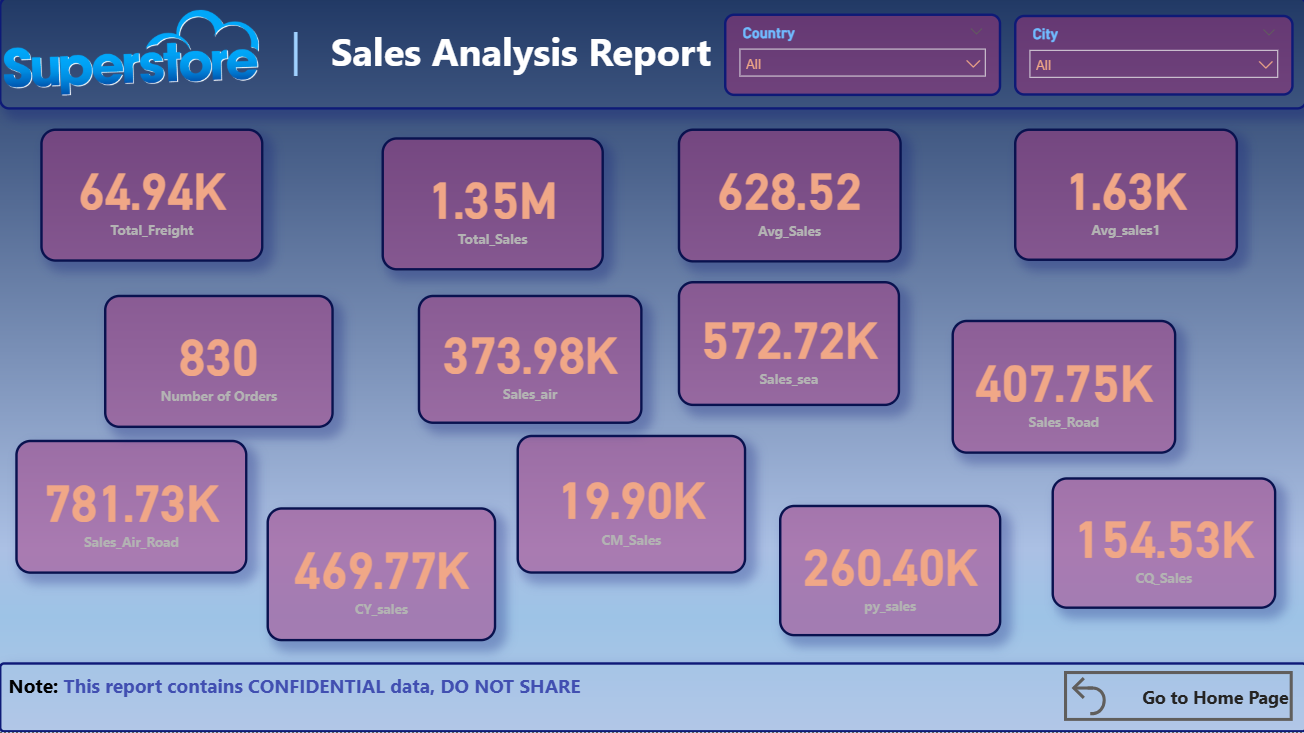

This screenshot's page, from the dashboard's own definition file:
{"tool":"powerbi","page":{"name":"EDA","canvas":[1280,720],"ordinal":5},"visuals":[{"type":"textbox","box":[0,0,1280.3,111.3],"z":0},{"type":"image","box":[0,0,259.2,111.3],"z":1000},{"type":"textbox","box":[272.7,17.1,436.6,94.2],"z":2000},{"type":"textbox","box":[0,651.8,1280.3,68.5],"z":3000},{"type":"slicer","fields":{"Values":["Customers.City"]},"box":[992.9,18.3,273.9,79.5],"z":4000},{"type":"actionButton","box":[1041.9,660.3,223.8,48.9],"z":5000},{"type":"slicer","fields":{"Values":["Customers.Country"]},"box":[709.2,17.1,271.5,80.7],"z":6000},{"type":"card","fields":{"Values":["Sum(Orders.Freight)"]},"box":[40,130,218.8,130],"z":7000},{"type":"card","fields":{"Values":["Sum(Order_Details.Total_Sales)"]},"box":[373.8,138.8,217.5,130],"z":8000},{"type":"card","fields":{"Values":["KPI_2.Avg_Sales"]},"box":[664,129.6,218.9,130.8],"z":9000},{"type":"card","fields":{"Values":["KPI.Avg_sales1"]},"box":[992.9,129.6,218.9,129.6],"z":10000},{"type":"card","fields":{"Values":["KPI.Sales_Air_Road"]},"box":[16.2,433.8,227.5,131.2],"z":11000},{"type":"card","fields":{"Values":["KPI_2.cy_1"]},"box":[261.2,500,225,131.2],"z":12000},{"type":"card","fields":{"Values":["KPI_2.CQ_Sales"]},"box":[1030,471.2,220,128.8],"z":13000},{"type":"card","fields":{"Values":["KPI.Road Shipping Sales"]},"box":[931.2,316.2,220,131.2],"z":14000},{"type":"card","fields":{"Values":["KPI.CM_Sales"]},"box":[506.2,428.8,225,136.2],"z":15000},{"type":"card","fields":{"Values":["KPI.Sea Shipping Sales"]},"box":[663.8,278.8,217.5,122.5],"z":16000},{"type":"card","fields":{"Values":["KPI_2.Number of Orders"]},"box":[102.5,292.5,225,130],"z":17000},{"type":"card","fields":{"Values":["KPI.Air Shipping Sales"]},"box":[410,292.5,220,126.2],"z":18000},{"type":"card","fields":{"Values":["KPI_2.py_sales"]},"box":[762.5,497.5,217.5,128.8],"z":19000}]}

Visuals, with their boxes in screenshot pixels (x1, y1, x2, y2), scaled from the page's 1280x720 canvas onto the 1304x733 screenshot:
textbox: 0,0,1303,113
image: 0,0,264,113
textbox: 278,17,723,113
textbox: 0,664,1303,732
slicer - Customers.City: 1012,19,1291,100
actionButton: 1061,672,1289,722
slicer - Customers.Country: 722,17,999,100
card - Sum(Orders.Freight): 41,132,264,265
card - Sum(Order_Details.Total_Sales): 381,141,602,274
card - KPI_2.Avg_Sales: 676,132,899,265
card - KPI.Avg_sales1: 1012,132,1235,264
card - KPI.Sales_Air_Road: 17,442,248,575
card - KPI_2.cy_1: 266,509,495,643
card - KPI_2.CQ_Sales: 1049,480,1273,611
card - KPI.Road Shipping Sales: 949,322,1173,455
card - KPI.CM_Sales: 516,437,745,575
card - KPI.Sea Shipping Sales: 676,284,898,409
card - KPI_2.Number of Orders: 104,298,334,430
card - KPI.Air Shipping Sales: 418,298,642,426
card - KPI_2.py_sales: 777,506,998,638
